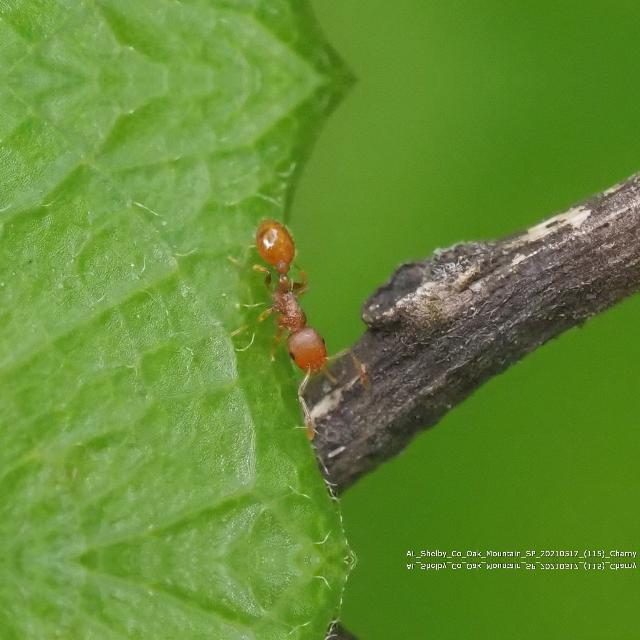Temnothorax: (236, 206, 372, 407)
